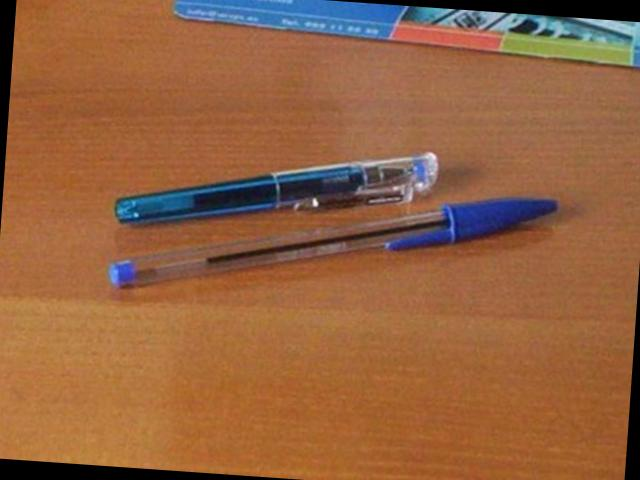PEN: (98, 171, 569, 302), (107, 132, 459, 235)
